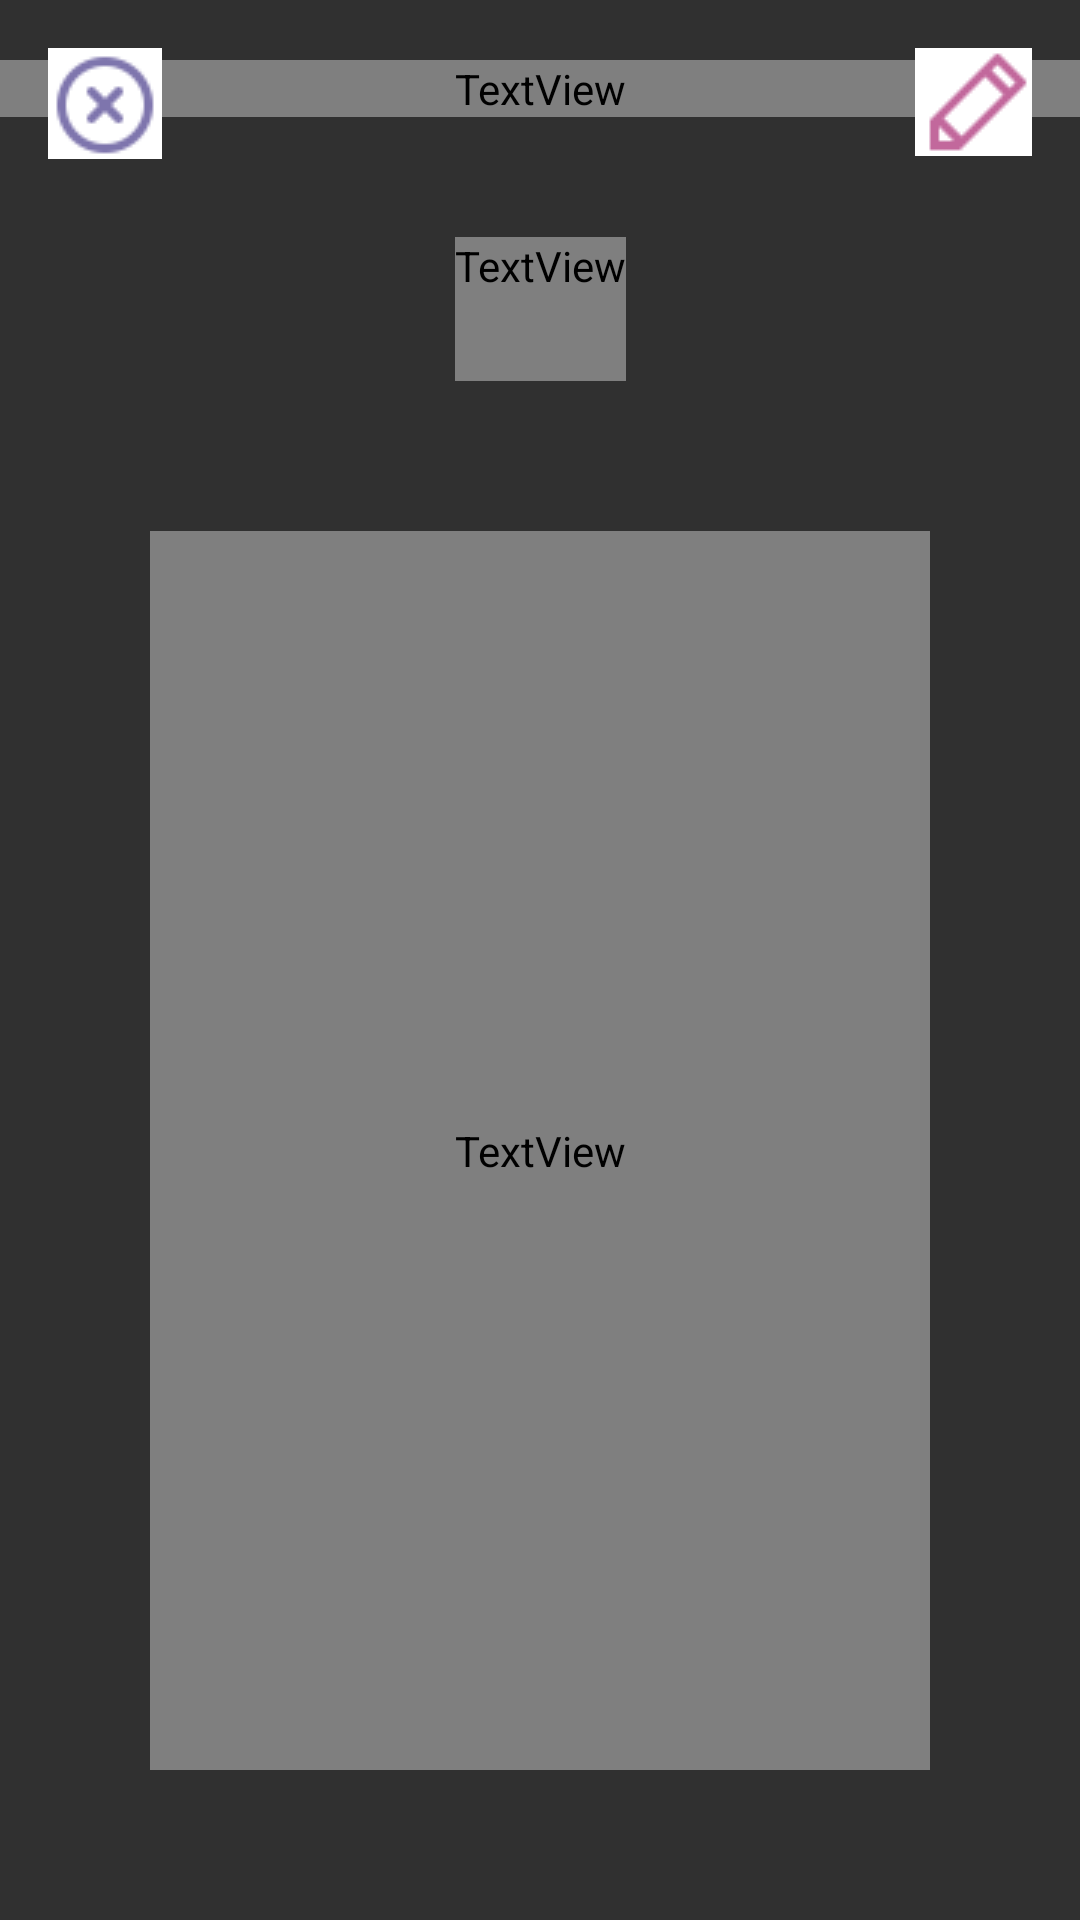

Point at icon controls on the screen. Image size 1080x1920, points as [x,y].
현재 작성하고 있는 일기 취소: [105,103]
